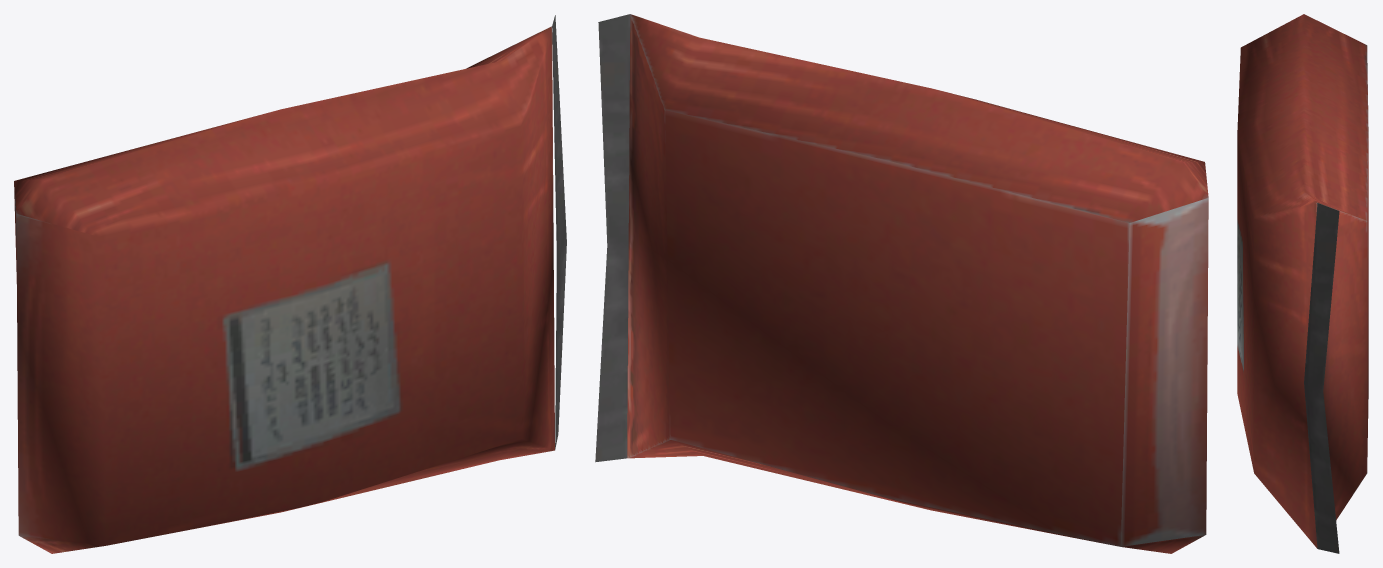
File: p6_bag_spice_LOD1.obj
The picture shows the model from 3 angles, left to right: view 1: azimuth 30°, elevation 25°; view 2: azimuth 150°, elevation 25°; view 3: azimuth 270°, elevation 25°; orthographic projection. The views are drawn at different scales.
Parts seen in each view (by area): view 1: mtl_p6_bag_spice; view 2: mtl_p6_bag_spice; view 3: mtl_p6_bag_spice.
Boxes of the visible parts, x1,y1,x2,y2 form: mtl_p6_bag_spice: (14, 15, 566, 553); mtl_p6_bag_spice: (595, 14, 1208, 553); mtl_p6_bag_spice: (1237, 14, 1368, 553).
Bounding box in the file's own units: 32.86 × 23.67 × 8.16.
